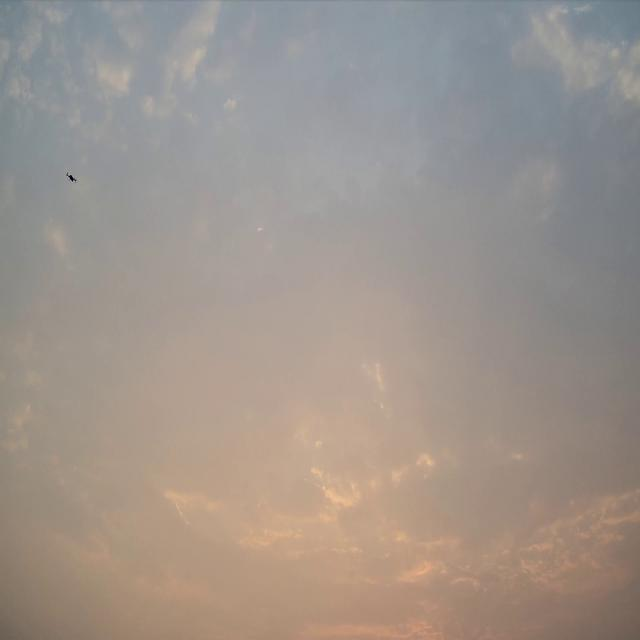drone: (66, 172, 79, 183)
